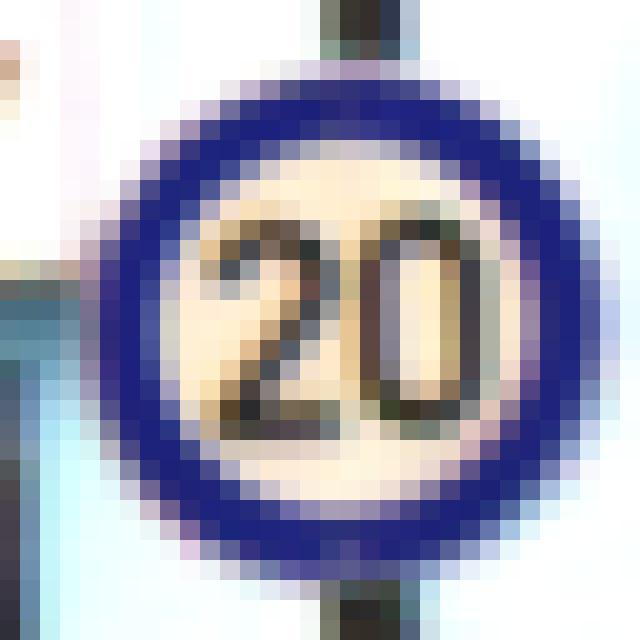SPEED LIMIT 20: (61, 65, 618, 583)
